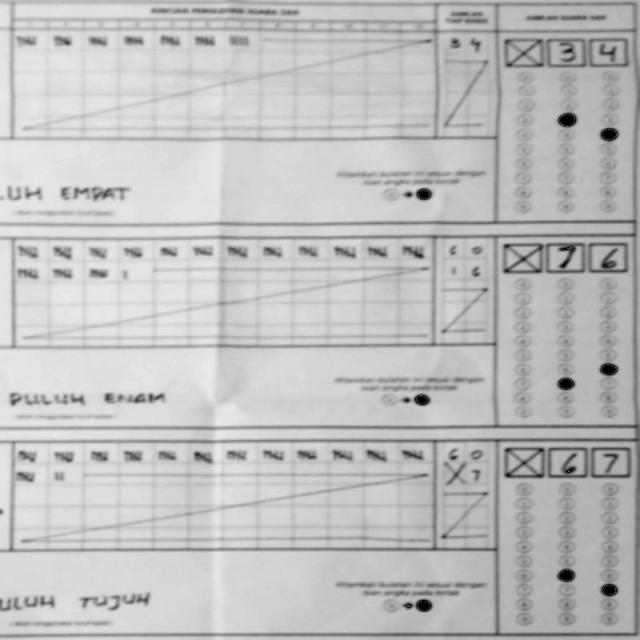Suara: (494, 236, 632, 278), (498, 33, 634, 66), (503, 445, 633, 479)
